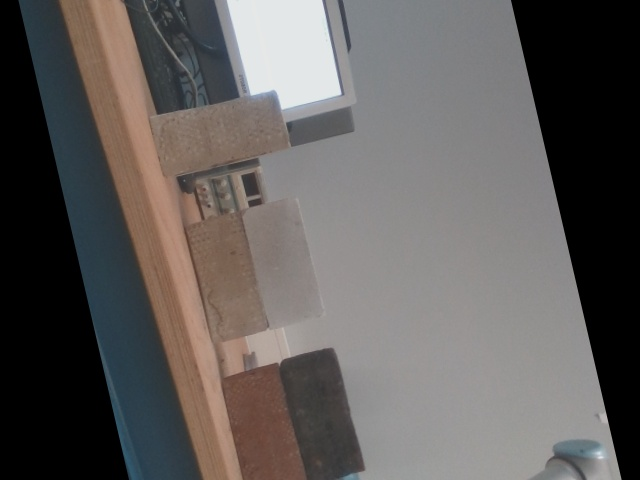brick: (148, 90, 289, 179), (278, 346, 365, 479), (238, 196, 324, 330), (180, 212, 267, 342), (218, 362, 308, 479)
